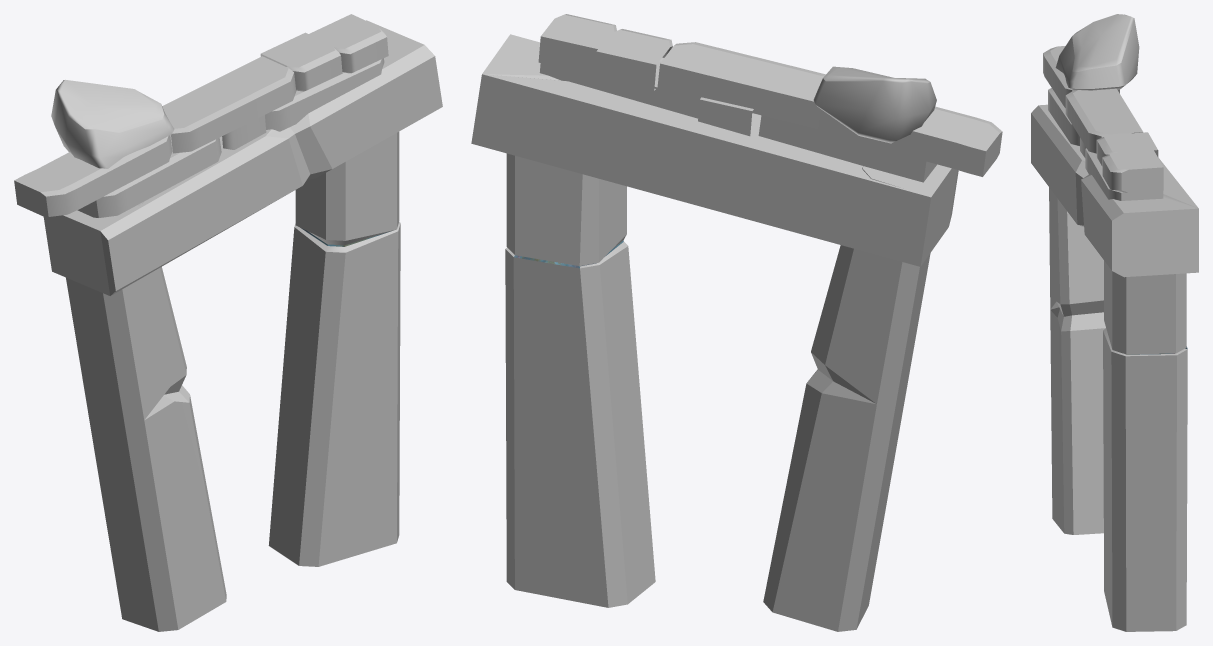
File: Str_Ruins_02_Art.fbx
3 views of the same model, side by side, from view 1: azimuth 30°, elevation 25°; view 2: azimuth 150°, elevation 25°; view 3: azimuth 270°, elevation 25° (orthographic). The views are drawn at different scales.
Visible parts, largest first — view 1: Str_Ruins_02; view 2: Str_Ruins_02; view 3: Str_Ruins_02.
Boxes of the visible parts, bbox=[...] form: Str_Ruins_02: bbox=[14, 14, 442, 631]; Str_Ruins_02: bbox=[471, 14, 1002, 631]; Str_Ruins_02: bbox=[1031, 14, 1198, 631].
Bounding box in the file's own units: 702 × 822 × 263.
